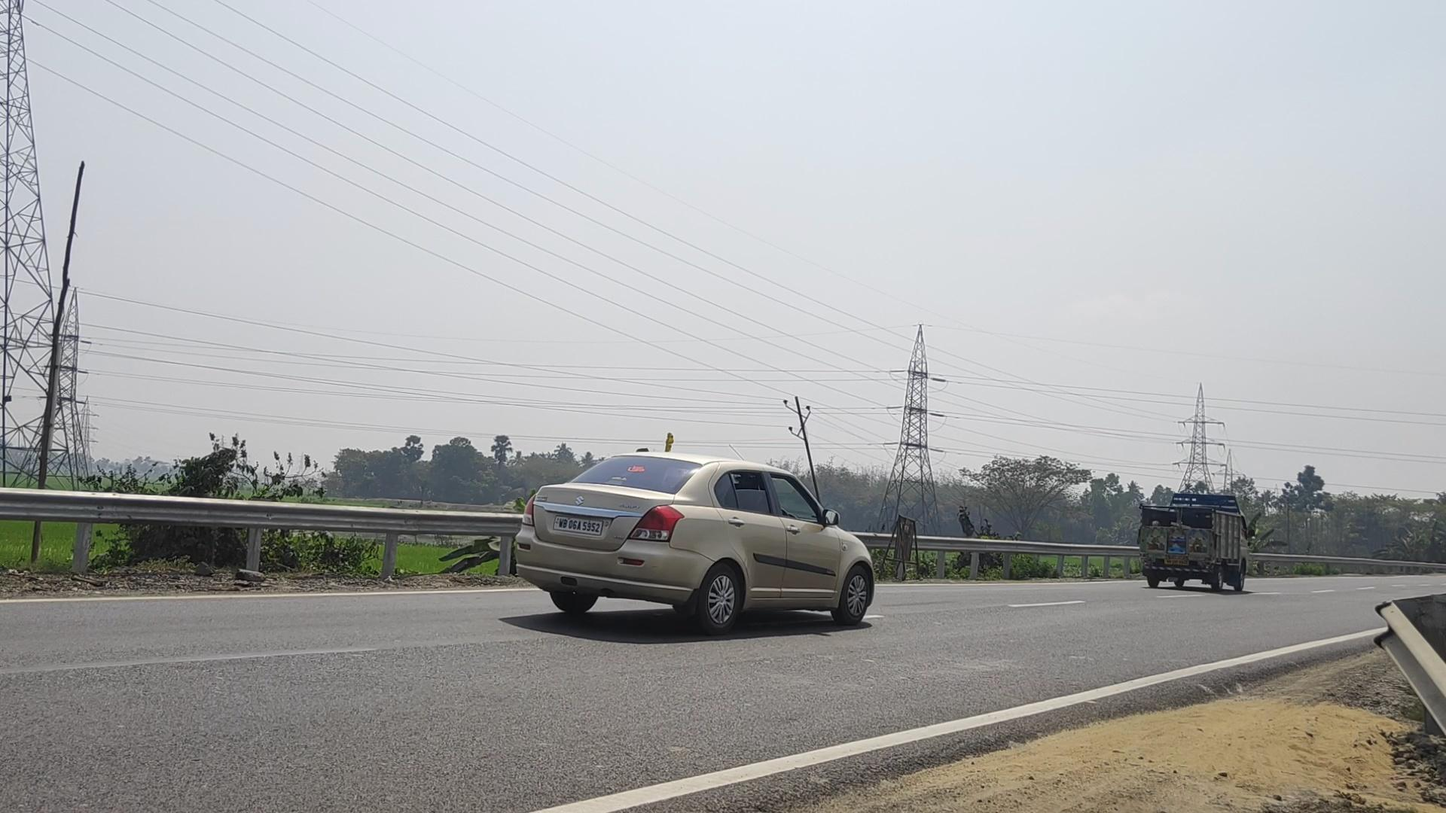car: (514, 452, 875, 637)
van: (1137, 493, 1255, 593)
